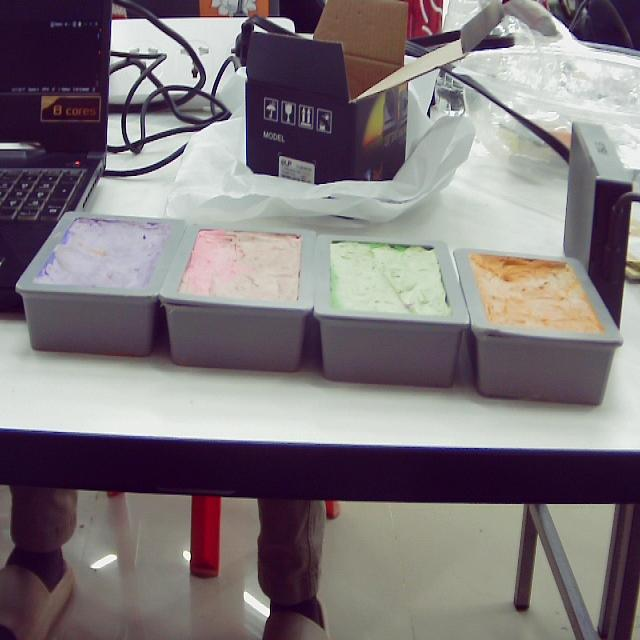block: (452, 249, 626, 404), (15, 213, 189, 357), (155, 222, 318, 373), (311, 235, 468, 388)
